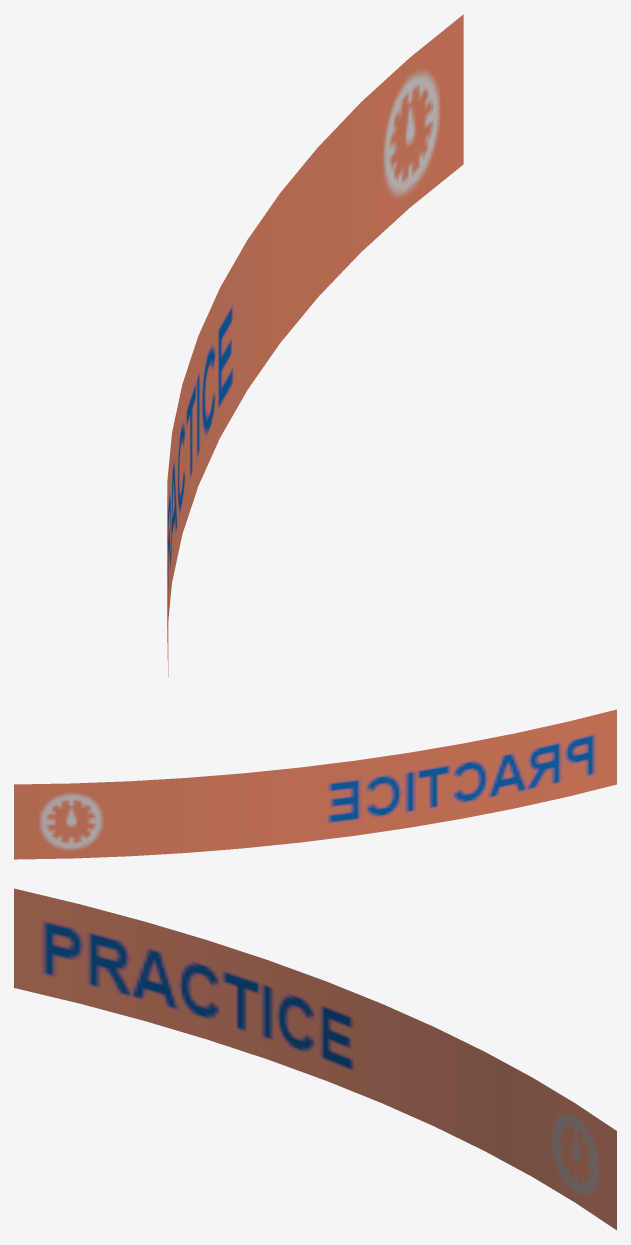
Rendered from practice_selected.glb.
3 renders of one model, top to bottom at view 1: azimuth 30°, elevation 25°; view 2: azimuth 150°, elevation 25°; view 3: azimuth 270°, elevation 25°, orthographic. The views are drawn at different scales.
Visible parts, largest first — view 1: menu_1_op_1_practice; view 2: menu_1_op_1_practice; view 3: menu_1_op_1_practice.
Boxes of the visible parts, x1,y1,x2,y2 form: menu_1_op_1_practice: (167, 14, 463, 676); menu_1_op_1_practice: (14, 709, 616, 859); menu_1_op_1_practice: (14, 888, 616, 1230).
Size of the model in its own units: 2.66 by 0.509 by 2.8.
Materials: 1 (1 with a texture image).
